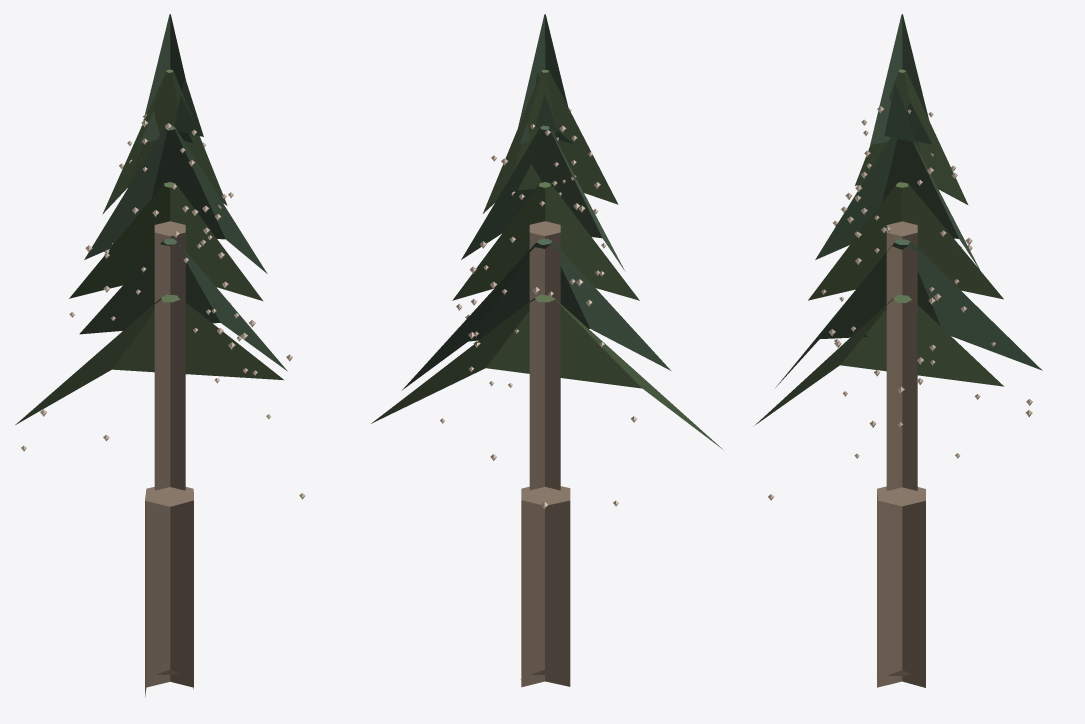
The model's file is shu.masan@flowering__summer.glb.
3 views of the same model, side by side, from view 1: azimuth 30°, elevation 25°; view 2: azimuth 150°, elevation 25°; view 3: azimuth 270°, elevation 25° (orthographic).
Parts seen in each view (by area): view 1: shu.masan@flowering__summer; view 2: shu.masan@flowering__summer; view 3: shu.masan@flowering__summer.
Boxes of the visible parts, x1,y1,x2,y2 form: shu.masan@flowering__summer: [15, 14, 305, 696]; shu.masan@flowering__summer: [371, 14, 722, 687]; shu.masan@flowering__summer: [753, 14, 1042, 687].
Bounding box in the file's own units: 8.49 × 18.78 × 7.95.
